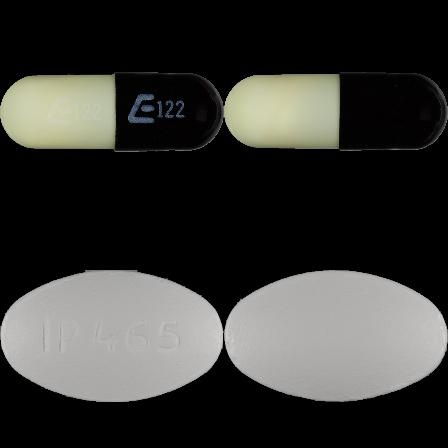63629-1459: (0, 0, 224, 224)
